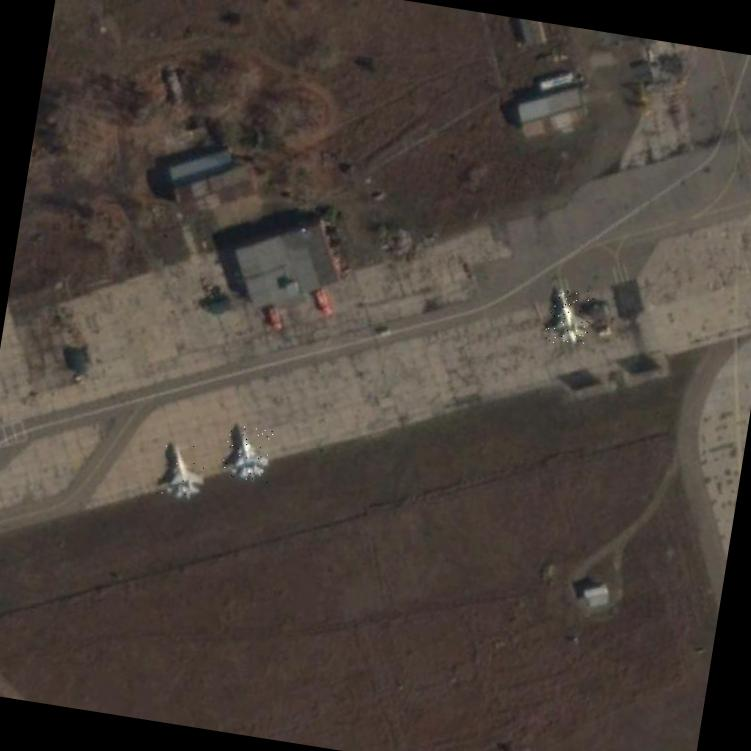A19: (544, 284, 596, 348), (220, 424, 275, 484), (155, 439, 208, 500)
